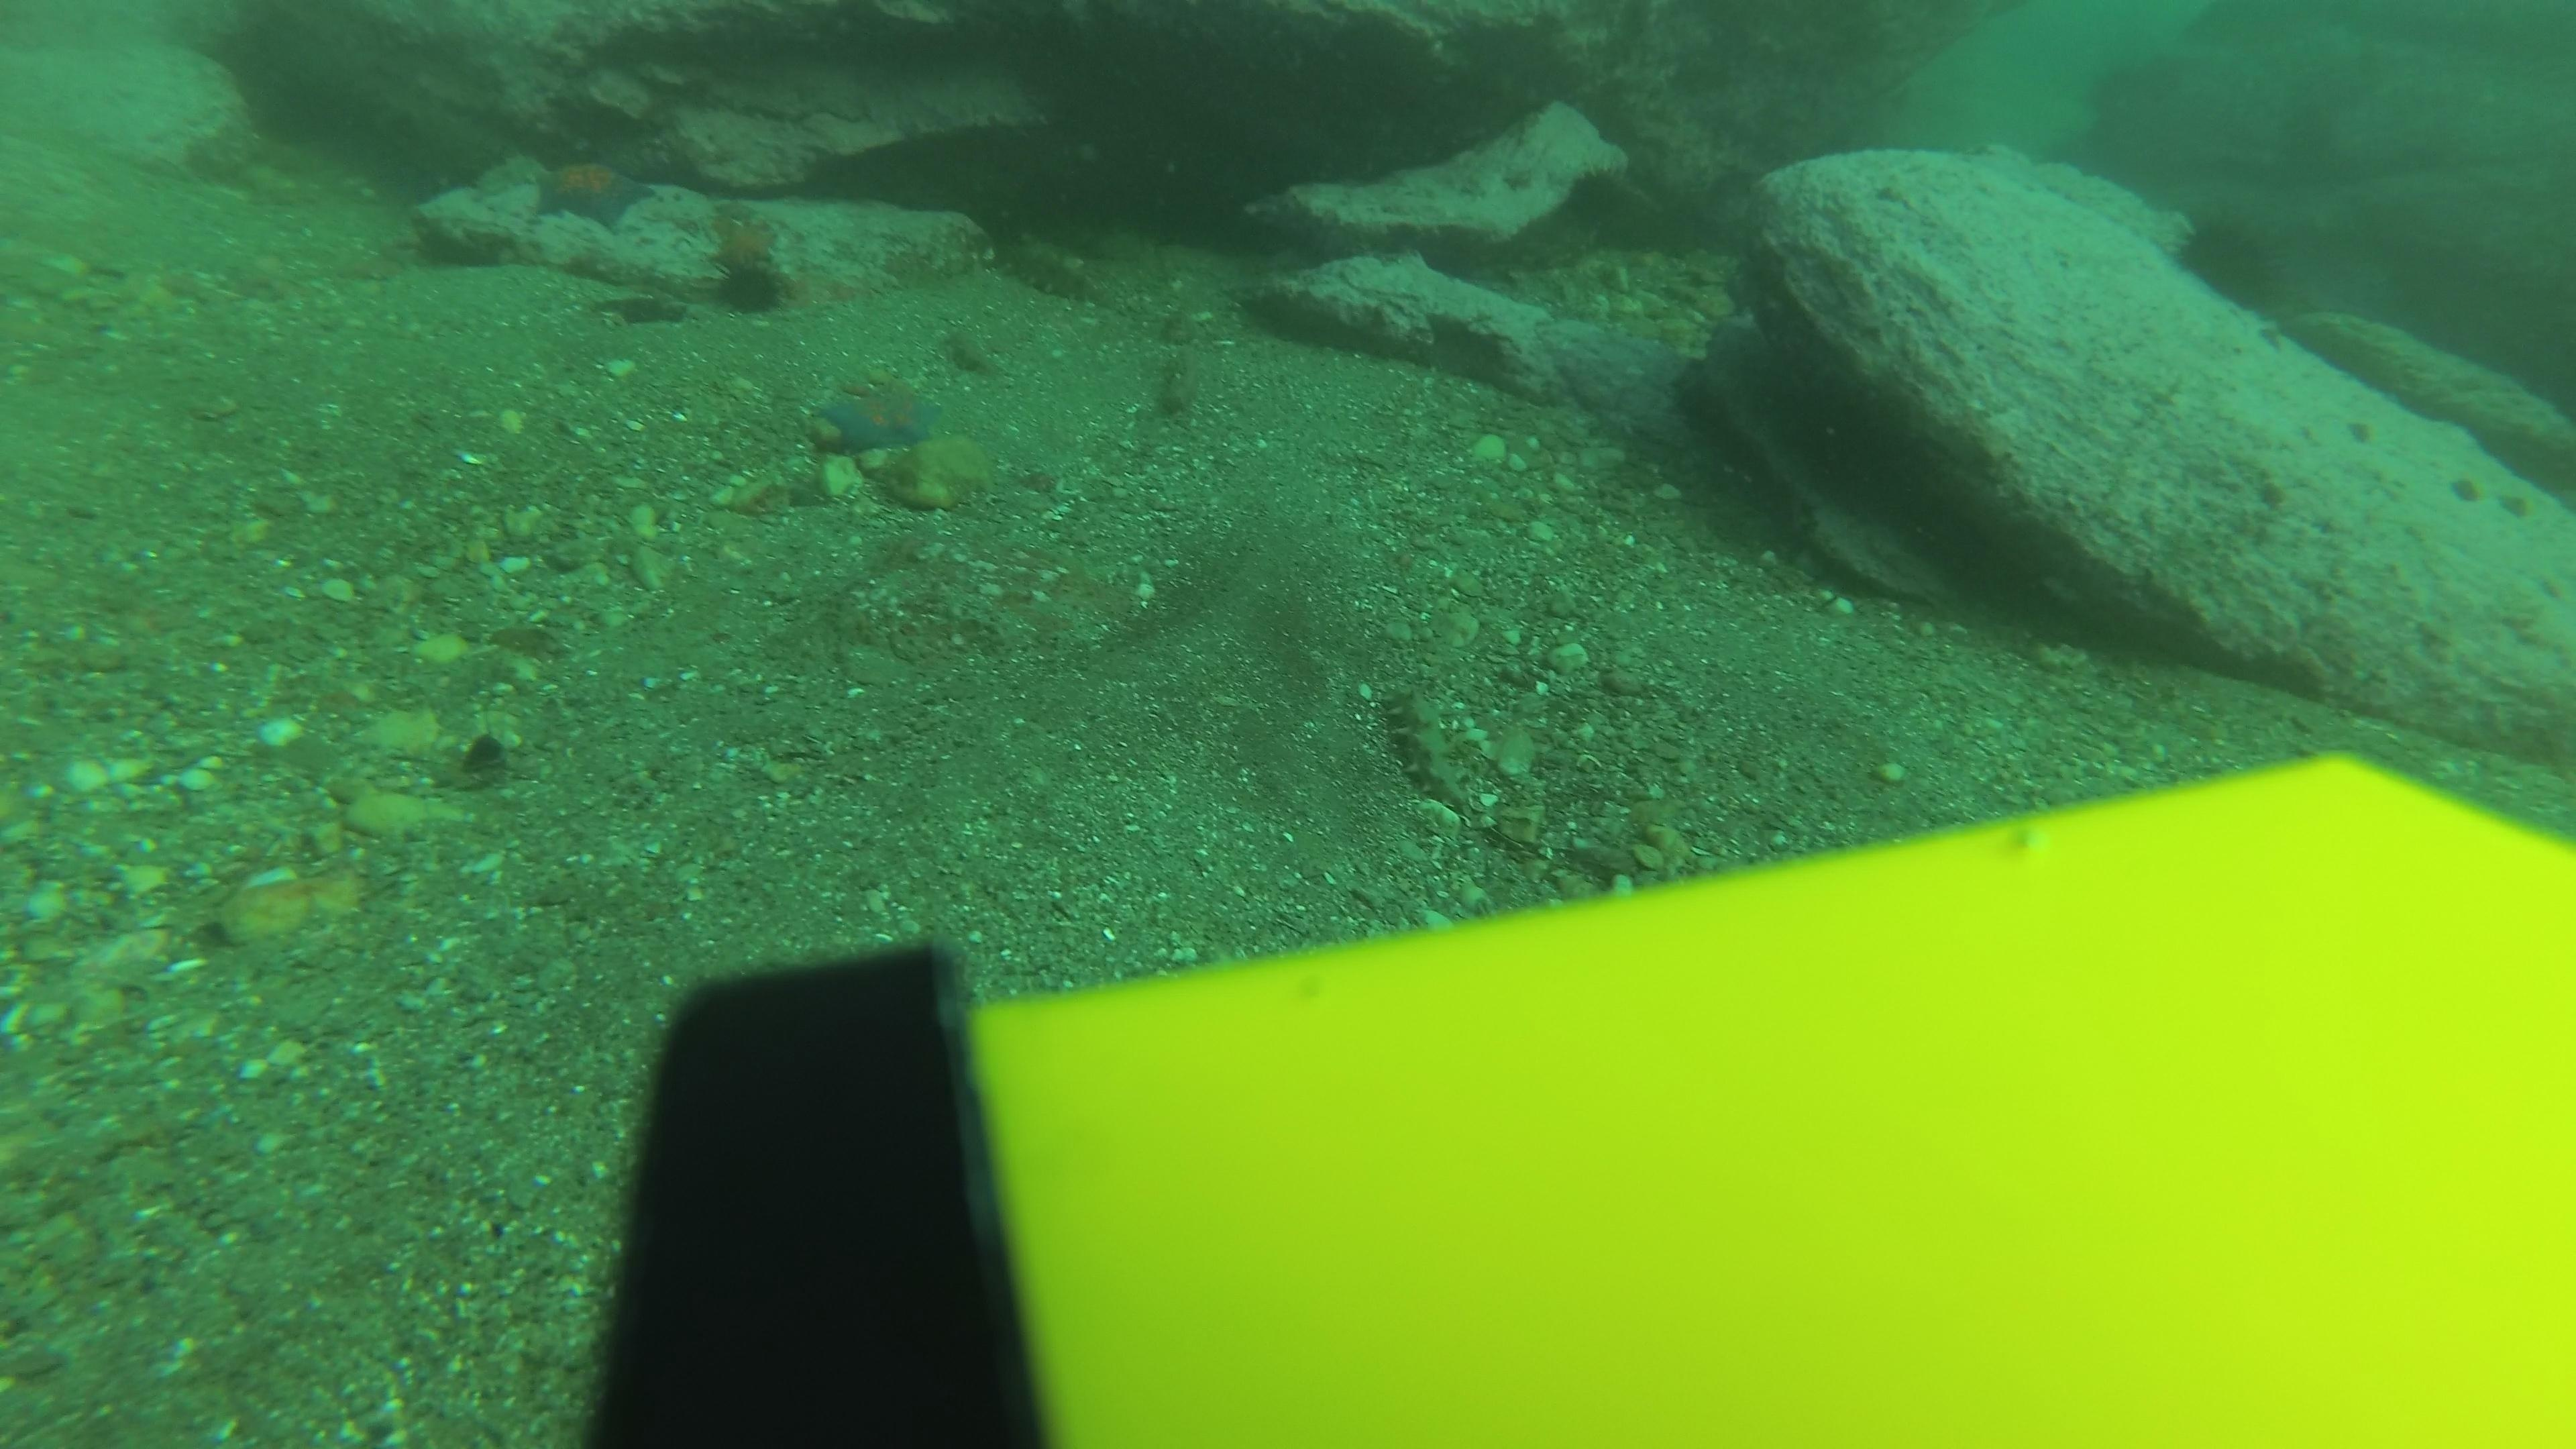echinus: (2167, 205, 2291, 315), (704, 230, 796, 318)
holothurian: (1378, 681, 1491, 830)
starfish: (522, 147, 662, 234), (809, 375, 950, 458), (706, 214, 789, 278)
